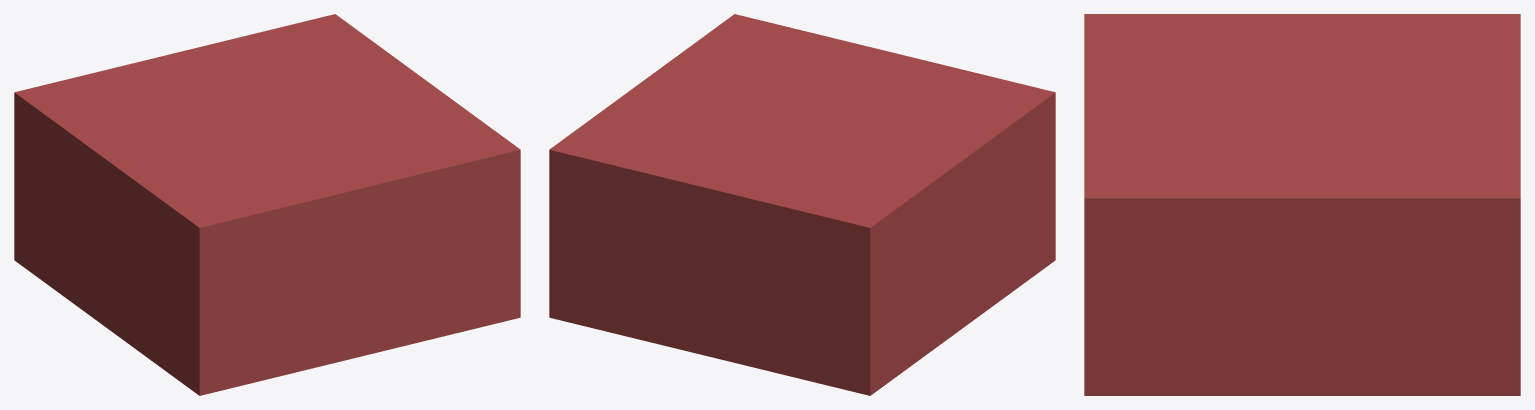
File: out4bunny.obj
3 renders of one model, left to right at view 1: azimuth 30°, elevation 25°; view 2: azimuth 150°, elevation 25°; view 3: azimuth 270°, elevation 25°, orthographic. The views are drawn at different scales.
Size of the model in its own units: 2 by 1 by 2.
